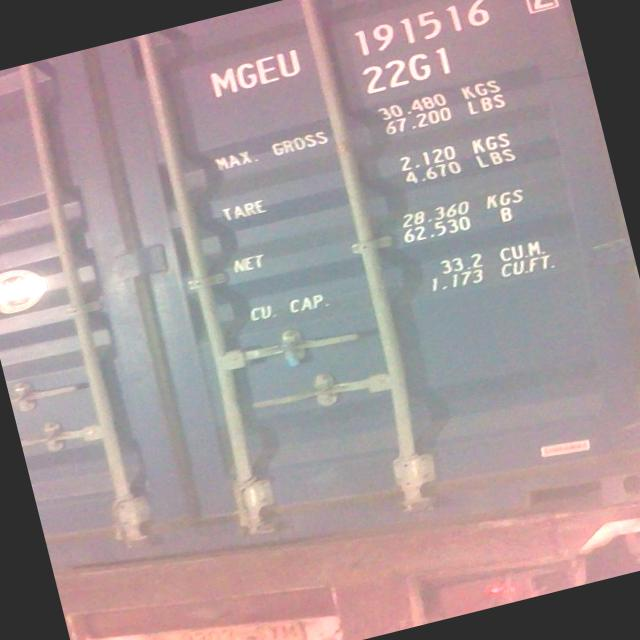seal: (277, 334, 306, 371)
